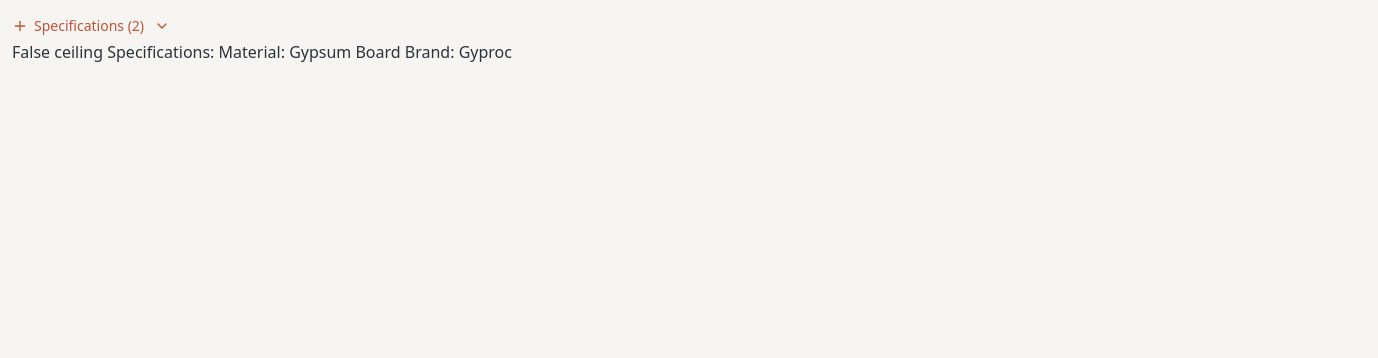
Test: restores saved specifications and removes them without damaging the description
Click the button "Specifications (2)" at (91, 26), box x1=12 y1=12 x2=170 y2=40
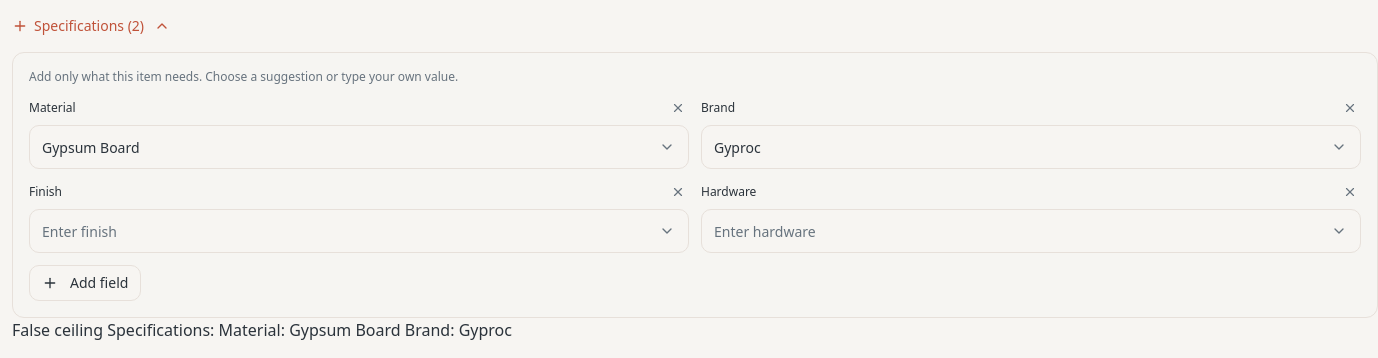
Expected: the field labelled "Brand" holds "Gyproc", x1=701 y1=125 x2=1361 y2=169
Click the button named "Remove Brand specification" at (1350, 108), box x1=1339 y1=97 x2=1361 y2=119
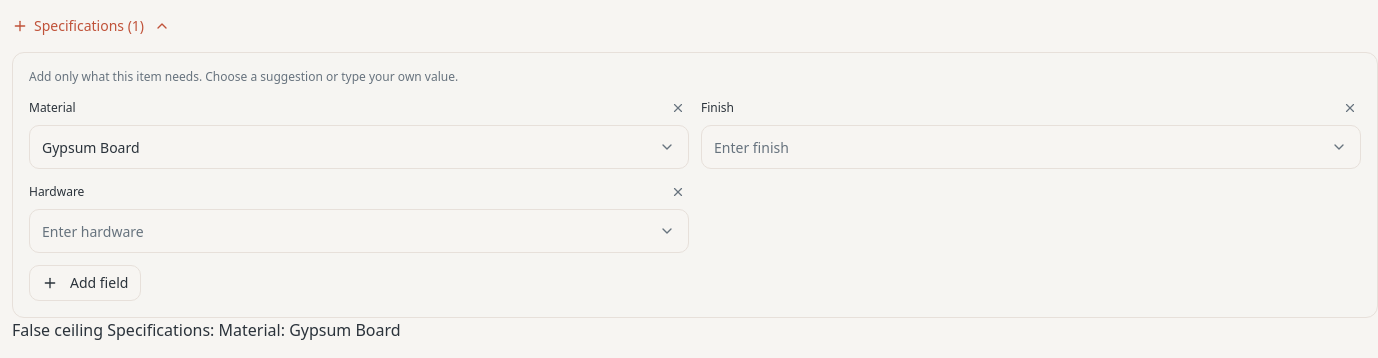
Expected: the text with test id "details" does not show "Gyproc", x1=12 y1=319 x2=401 y2=341
Click the button named "Remove Material specification" at (678, 108), box x1=667 y1=97 x2=689 y2=119
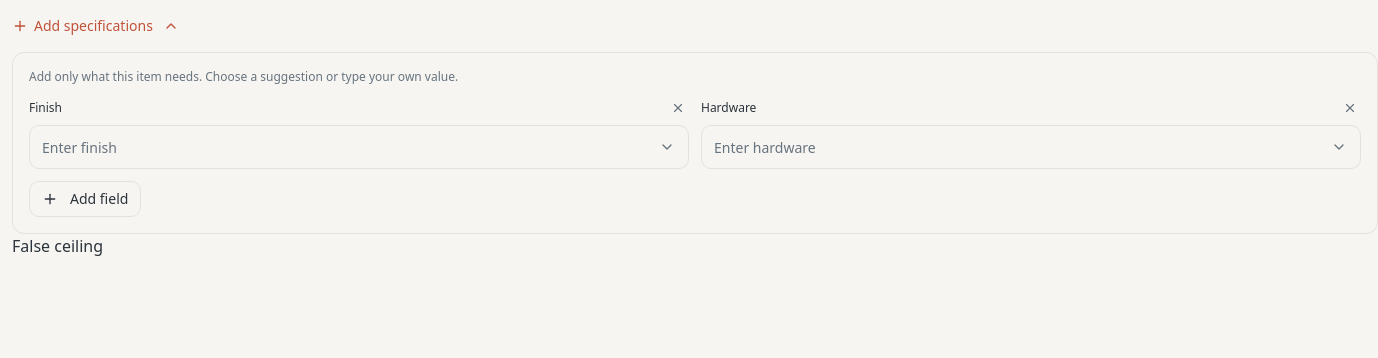
Expected: the text with test id "details" reads "False ceiling", x1=12 y1=235 x2=103 y2=257
